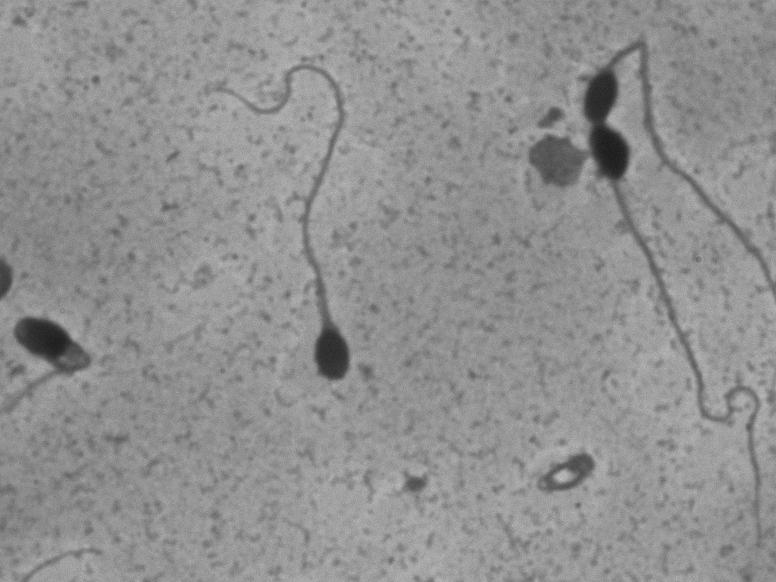Normal: (195, 54, 394, 414)
